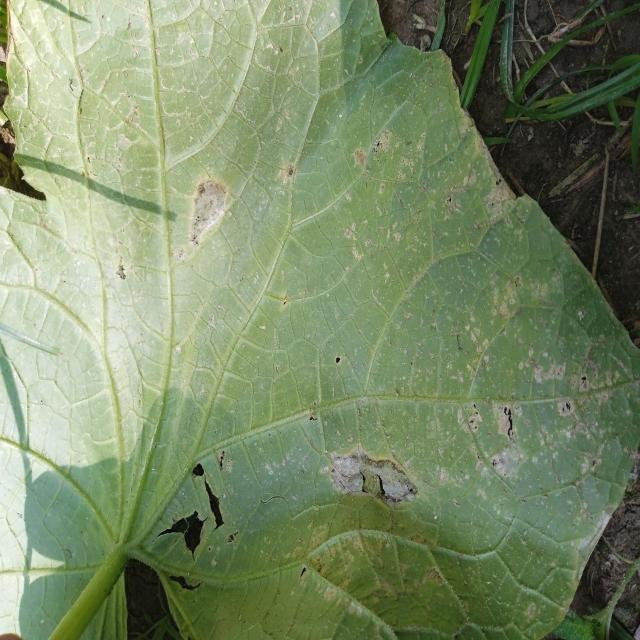cucumber_anthracnose: (41, 10, 241, 610), (254, 275, 600, 537), (264, 65, 498, 282)
